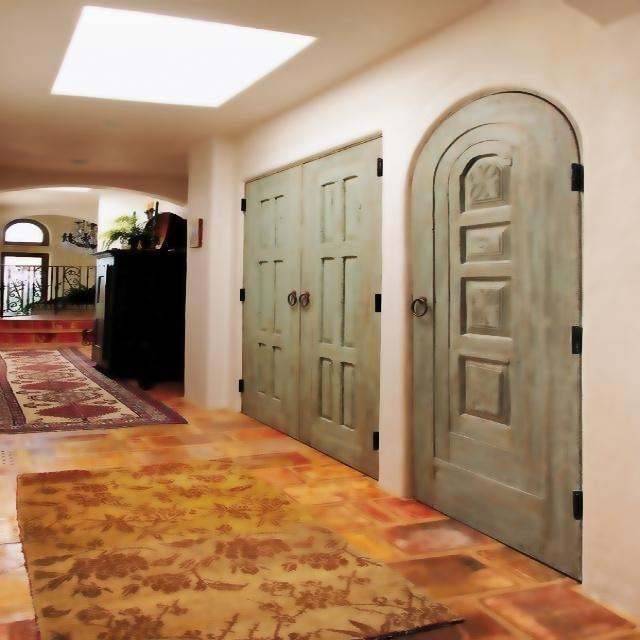door: (408, 89, 583, 582), (301, 125, 395, 478), (242, 151, 298, 435)
